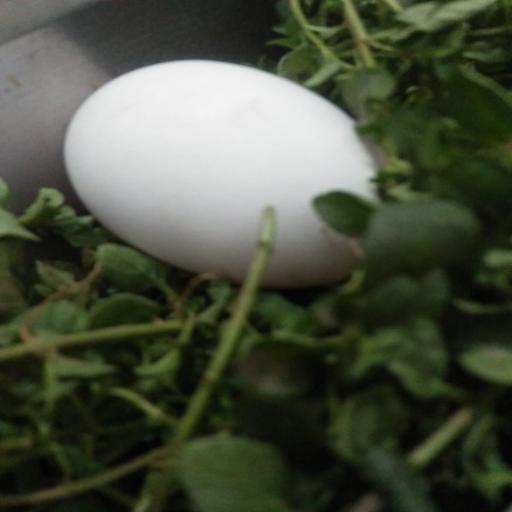telur: (52, 55, 406, 295)
